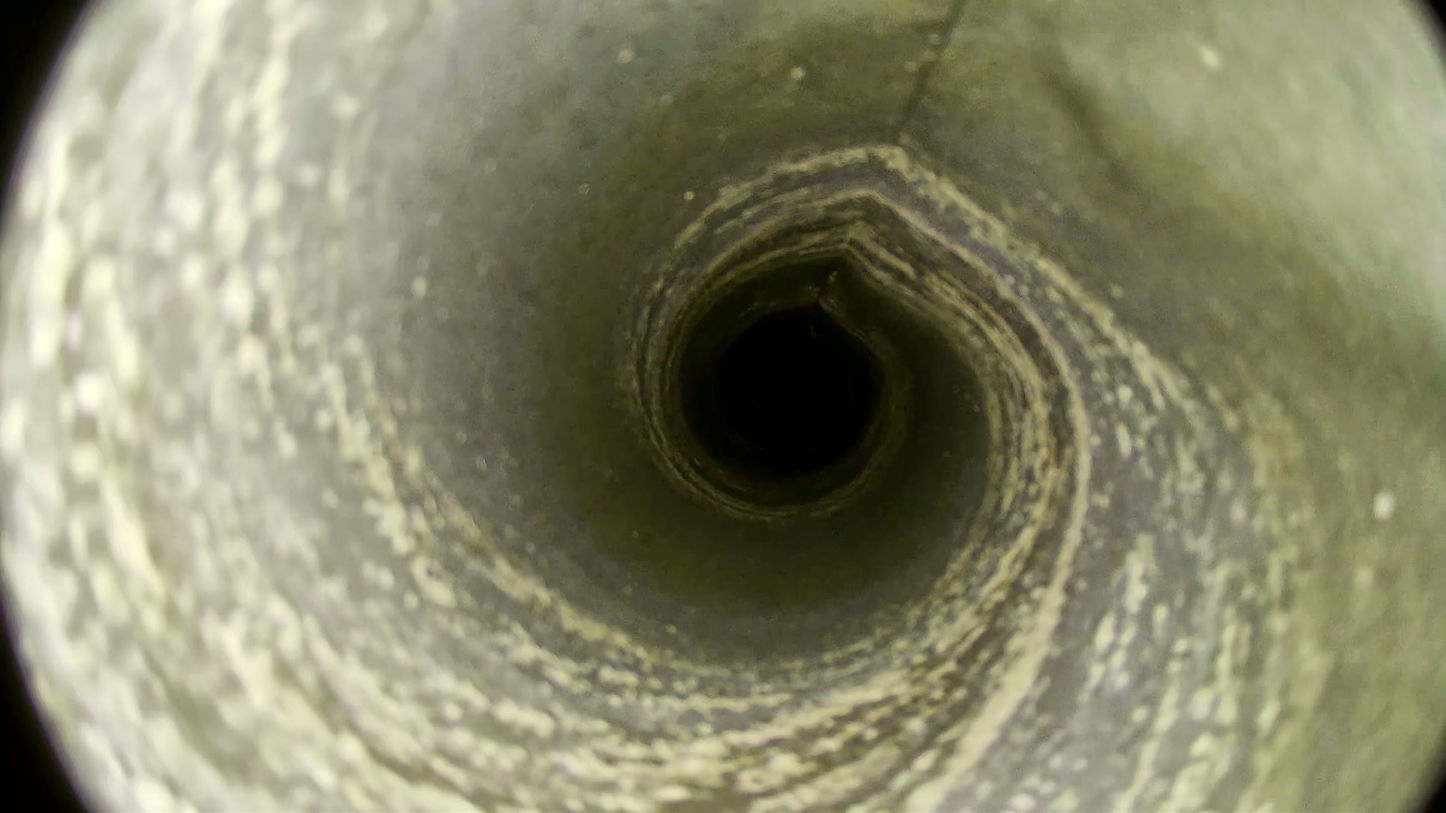hole: (719, 322, 853, 451)
